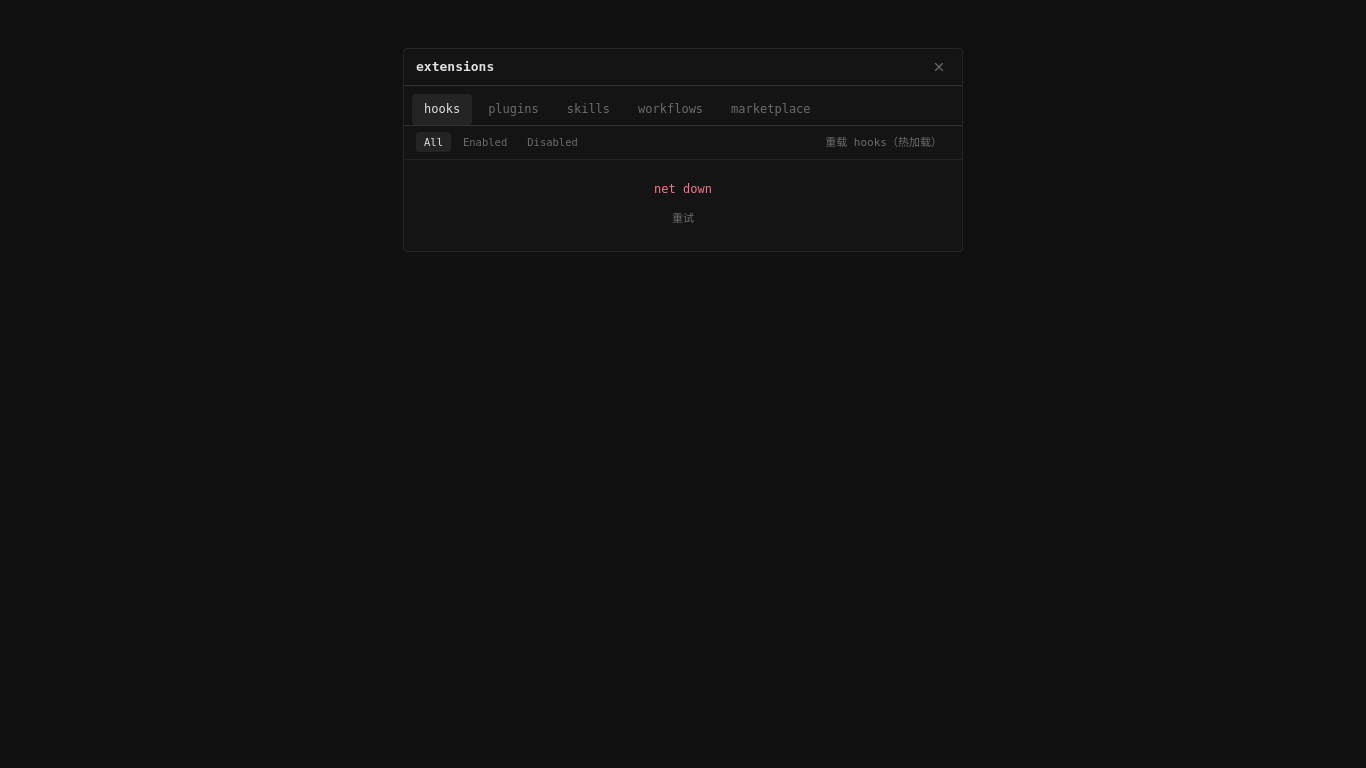
ExtensionsModal › 拉取失败（hooks + 本地都挂）→ 错误 + 重试
This screenshot has width=1366, height=768.
Expected: the dialog "extensions" shows "net down", [654,182,712,196]
Step 1. Click the button "重试" → (683, 219), box [660,206,706,231]
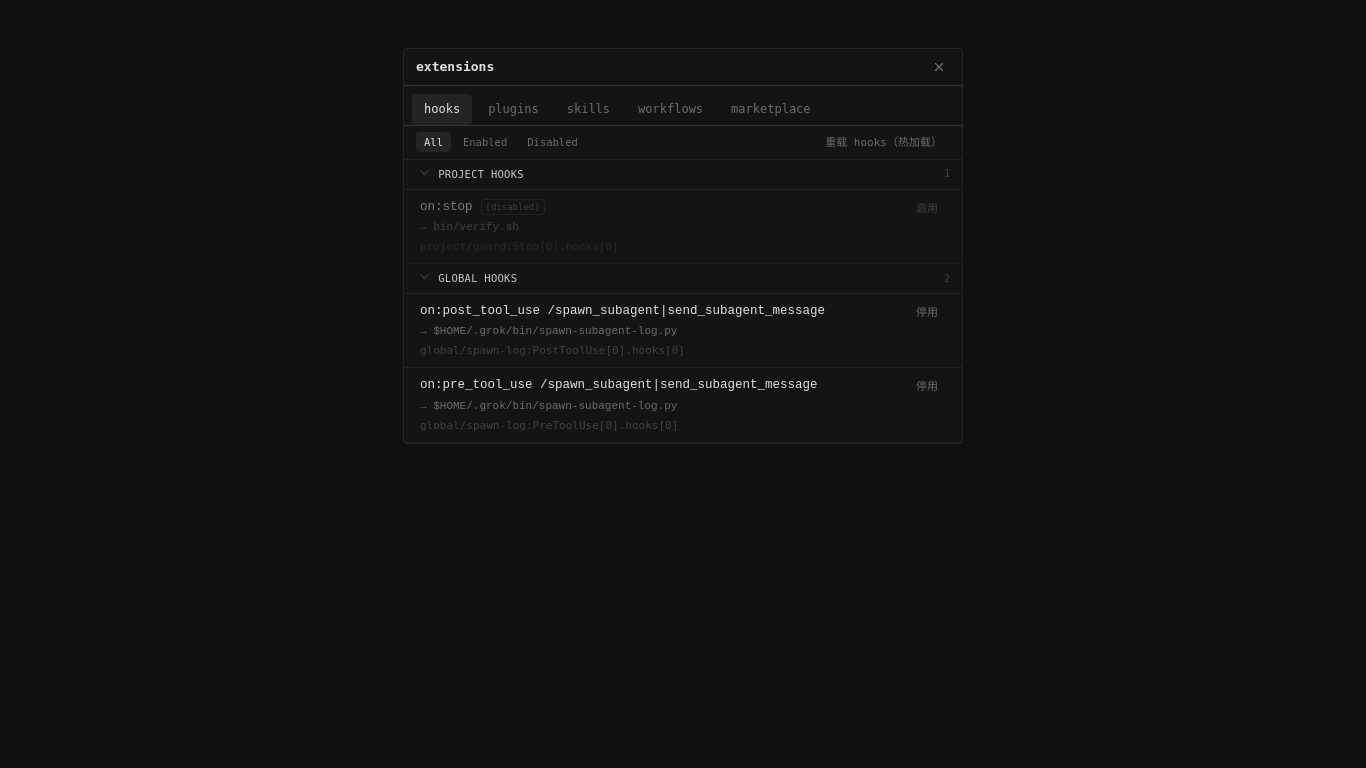
Expected: the text "on:pre_tool_use /spawn_subagent|send_subagent_message" is shown, [420,376,818,396]
